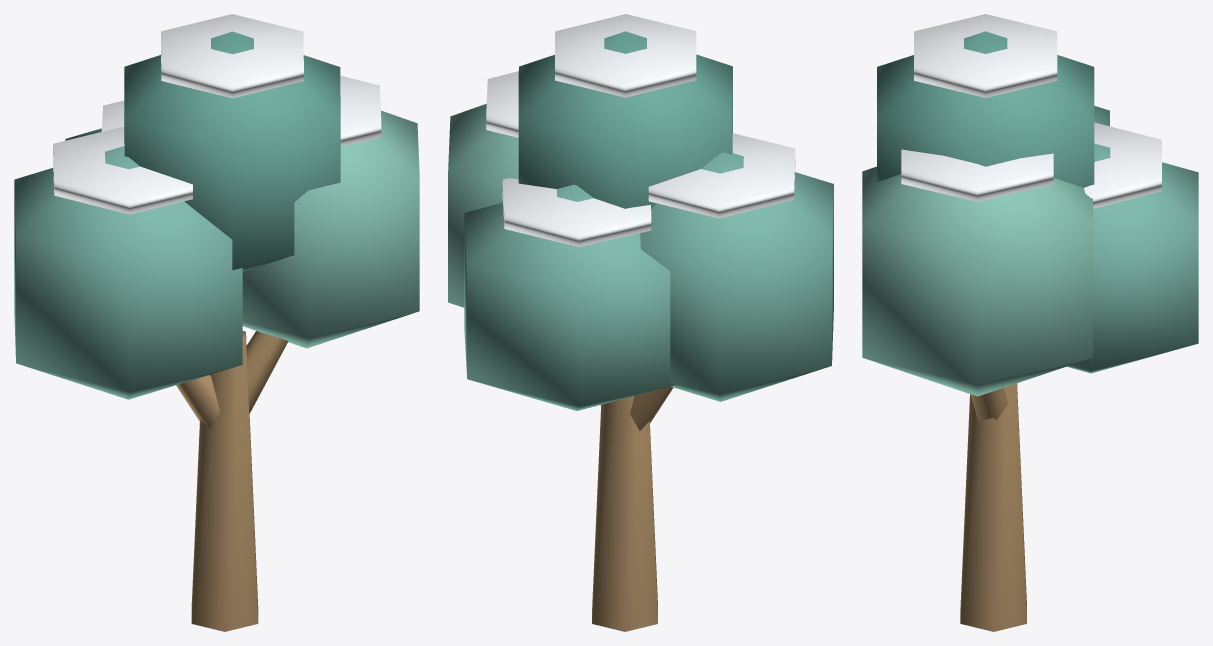
Rendered from tree_fruit_winter_low.glb.
3 renders of one model, left to right at view 1: azimuth 30°, elevation 25°; view 2: azimuth 150°, elevation 25°; view 3: azimuth 270°, elevation 25°, orthographic.
Size of the model in its own units: 2.24 by 3.19 by 1.66.
